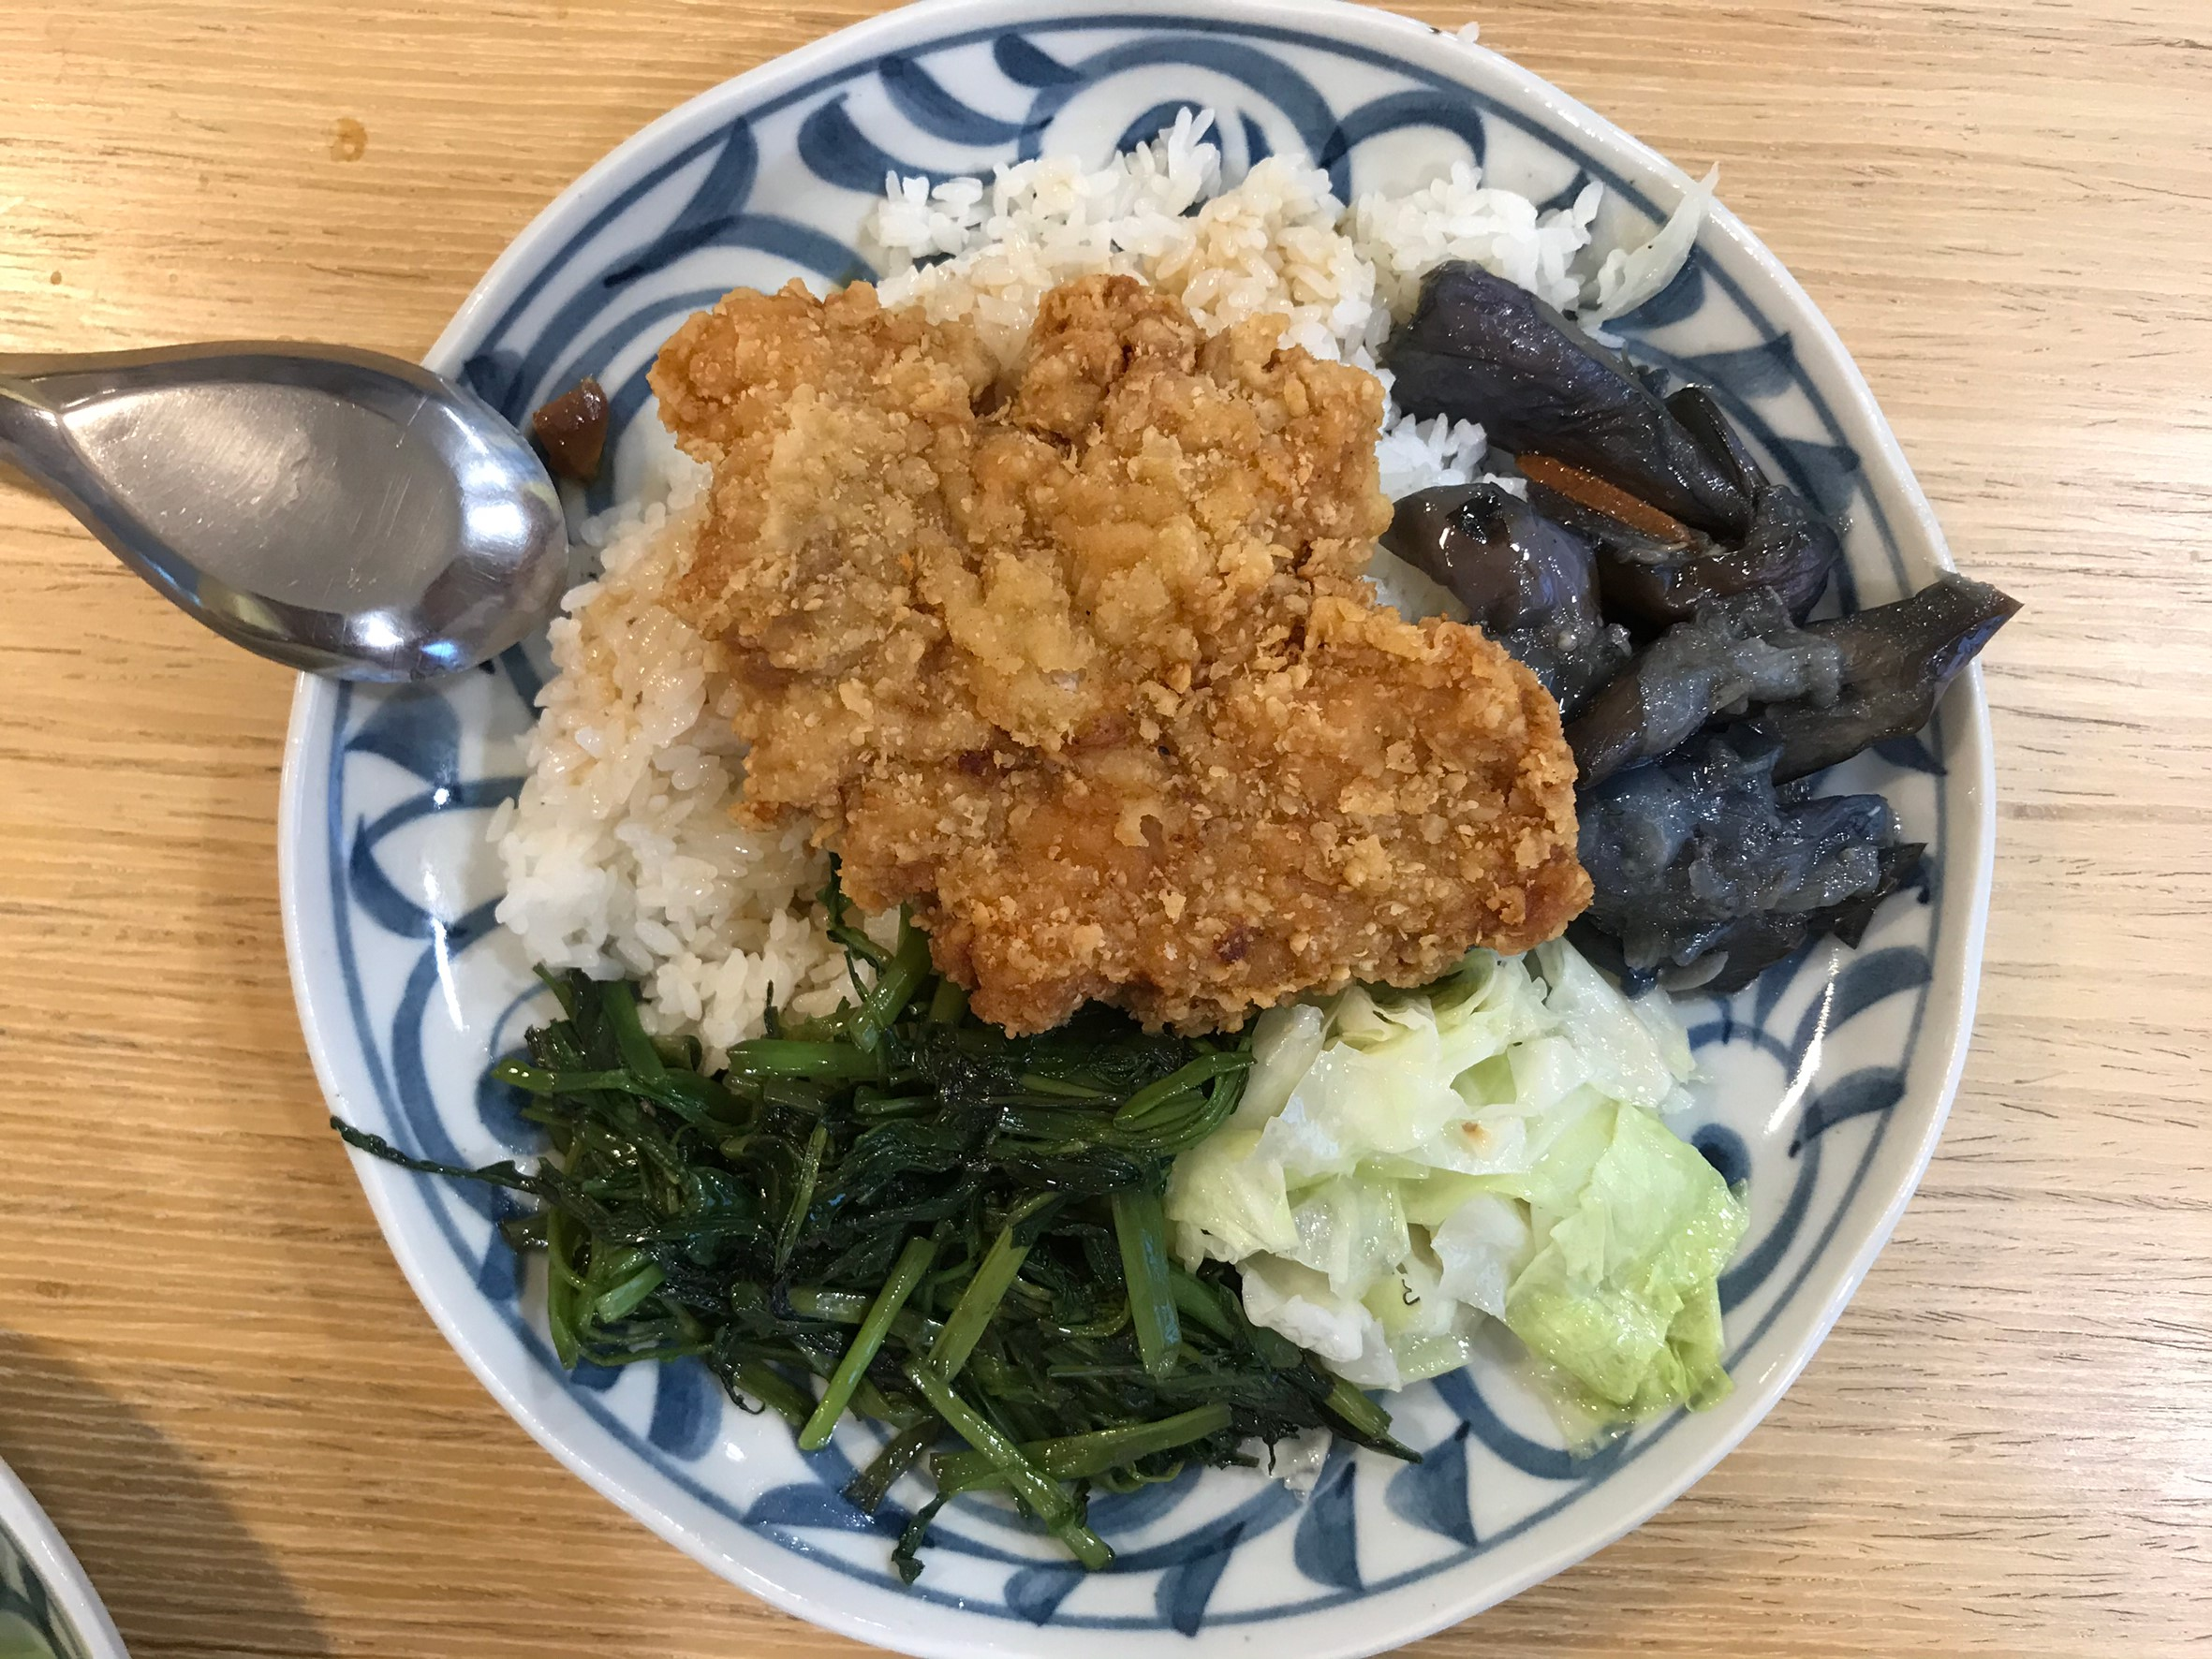chinese_cabbage: (1243, 1000, 1724, 1436)
fried_chicken: (659, 288, 1567, 1009)
rice: (523, 556, 737, 1009), (865, 162, 1489, 289)
water_spinach: (507, 1006, 1241, 1486)
